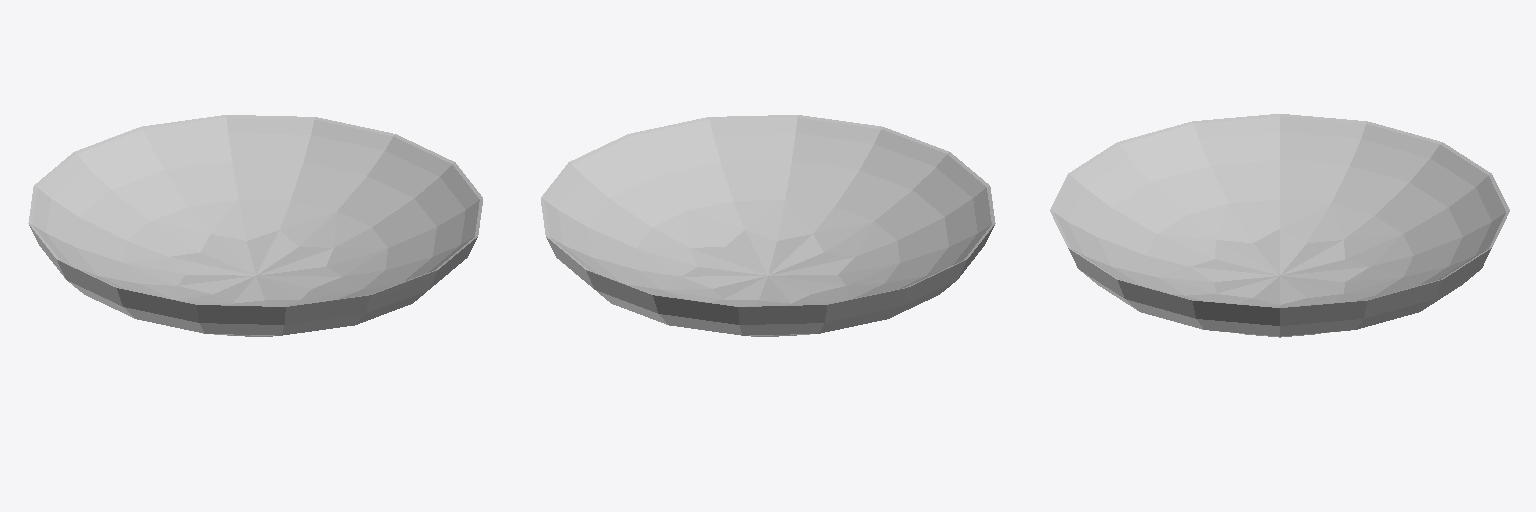
Rendered from Bowl_Cylinder.001.obj.
The picture shows the model from 3 angles: view 1: azimuth 30°, elevation 25°; view 2: azimuth 150°, elevation 25°; view 3: azimuth 270°, elevation 25°; orthographic projection.
Parts seen in each view (by area): view 1: Bowl_Cylinder.001; view 2: Bowl_Cylinder.001; view 3: Bowl_Cylinder.001.
Part boxes in pixels (x1,y1,x2,y2): Bowl_Cylinder.001: (28, 115, 482, 336); Bowl_Cylinder.001: (541, 115, 995, 336); Bowl_Cylinder.001: (1050, 114, 1509, 337).
Bounding box in the file's own units: 0.4568 × 0.0987 × 0.4568.